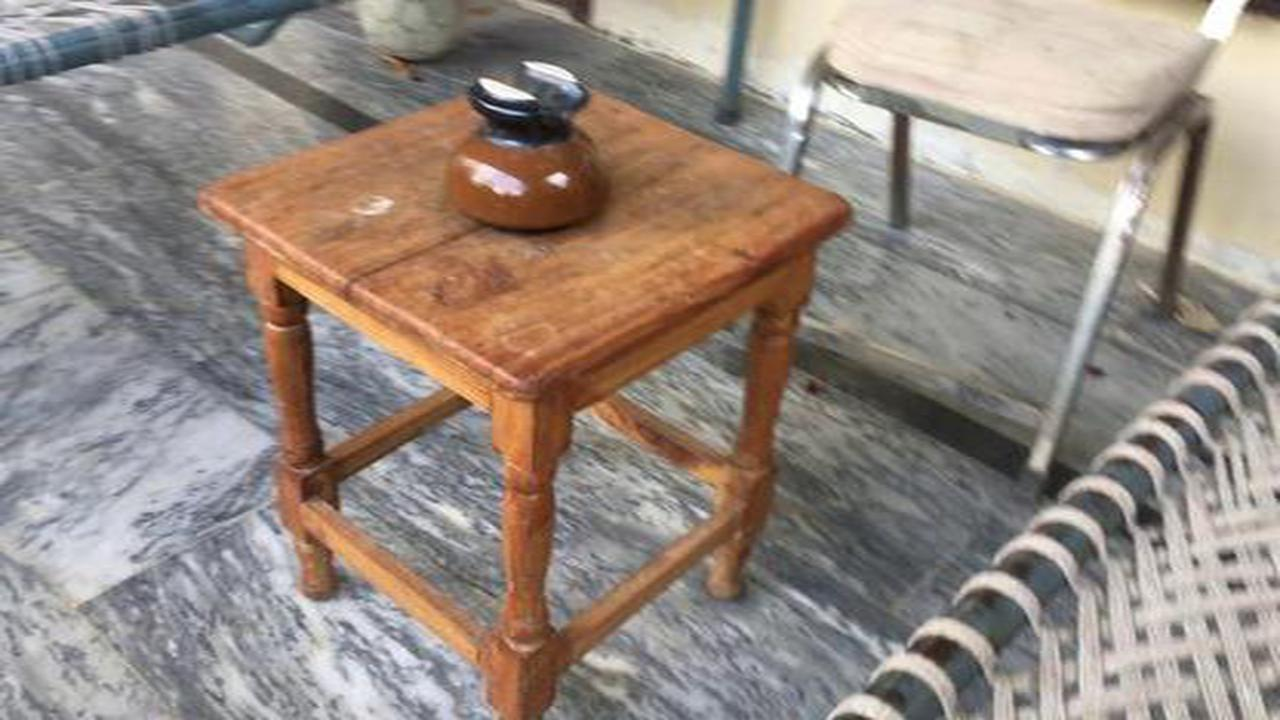insulator_pin: (431, 52, 625, 241)
